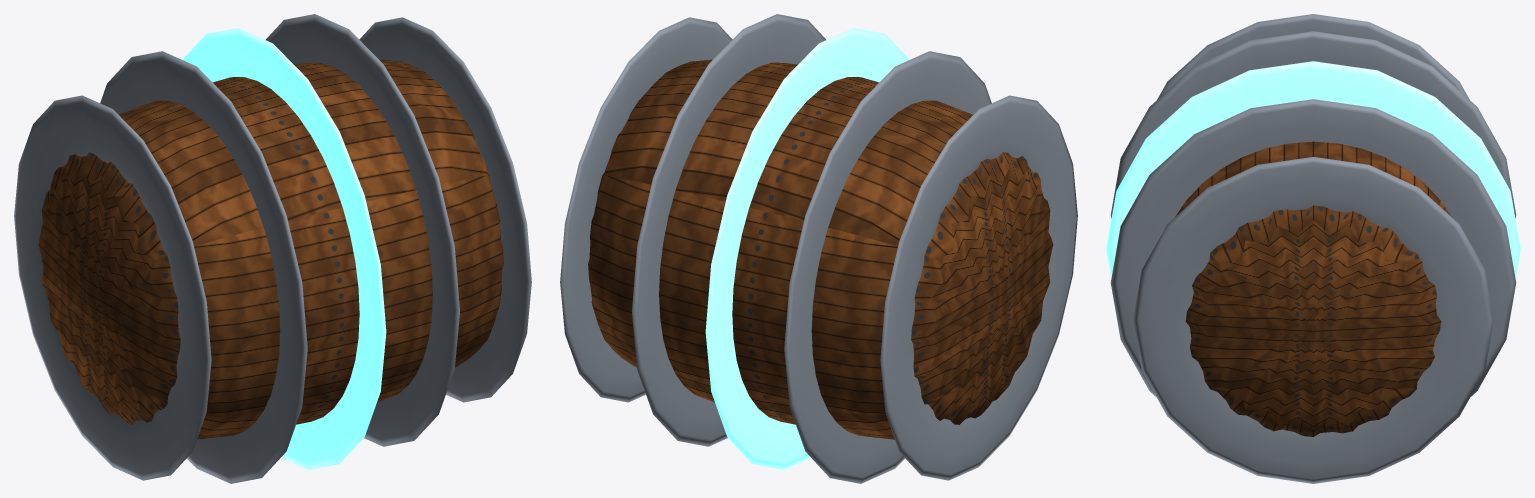
File: prop_sewer_barrel.glb
The picture shows the model from 3 angles, left to right: view 1: azimuth 30°, elevation 25°; view 2: azimuth 150°, elevation 25°; view 3: azimuth 270°, elevation 25°; orthographic projection. The views are drawn at different scales.
Parts seen in each view (by area): view 1: BarrelHull; view 2: BarrelHull; view 3: BarrelHull.
Part boxes in pixels (x1=…): BarrelHull: x1=14, y1=14, x2=531, y2=483; BarrelHull: x1=560, y1=14, x2=1077, y2=483; BarrelHull: x1=1106, y1=14, x2=1520, y2=483.
Size of the model in its own units: 4.26 by 4.54 by 4.54.
3 materials, 1 textured.
